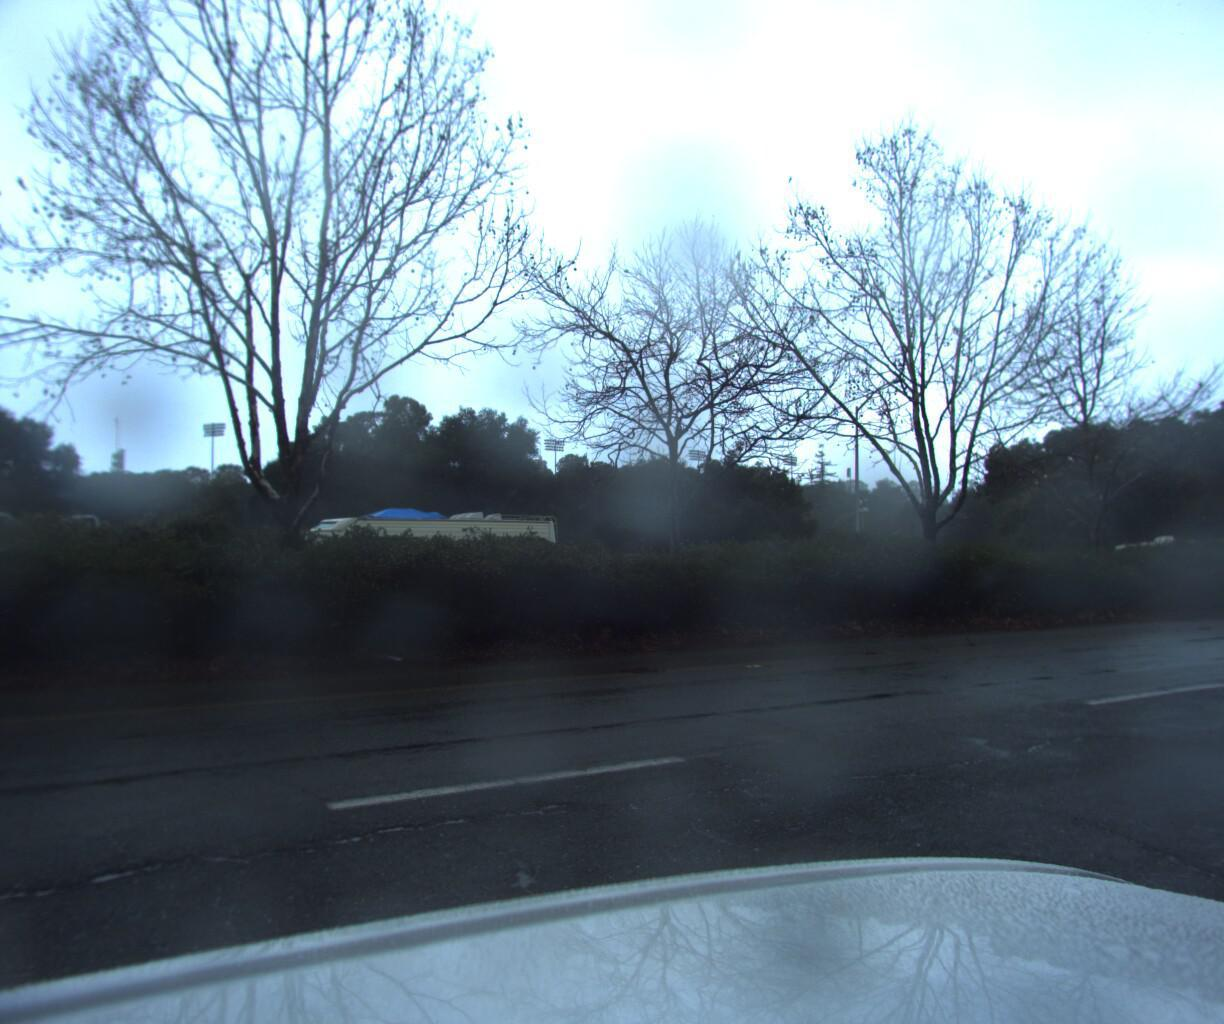other_vehicle: (252, 497, 569, 633), (0, 489, 107, 650), (1093, 531, 1224, 595)
